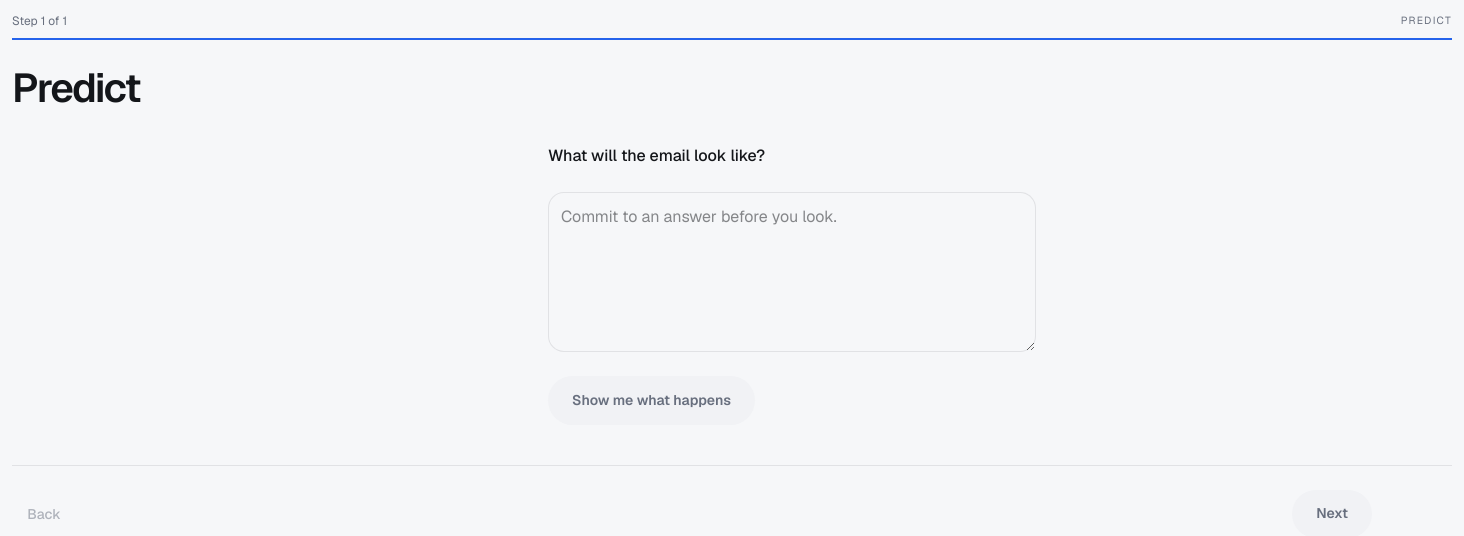
Test: <FocusMode /> — chunk kinds › hides a predict chunk's answer until the learner asks for it
Check: the text "What will the email look like?" is shown, box [548,145,765,166]
Check: the text "alex@example.com" is not shown
Type "lowercase, no spaces" into the text box labelled "What will the email look like?" at (792, 272), box [548,192,1036,352]
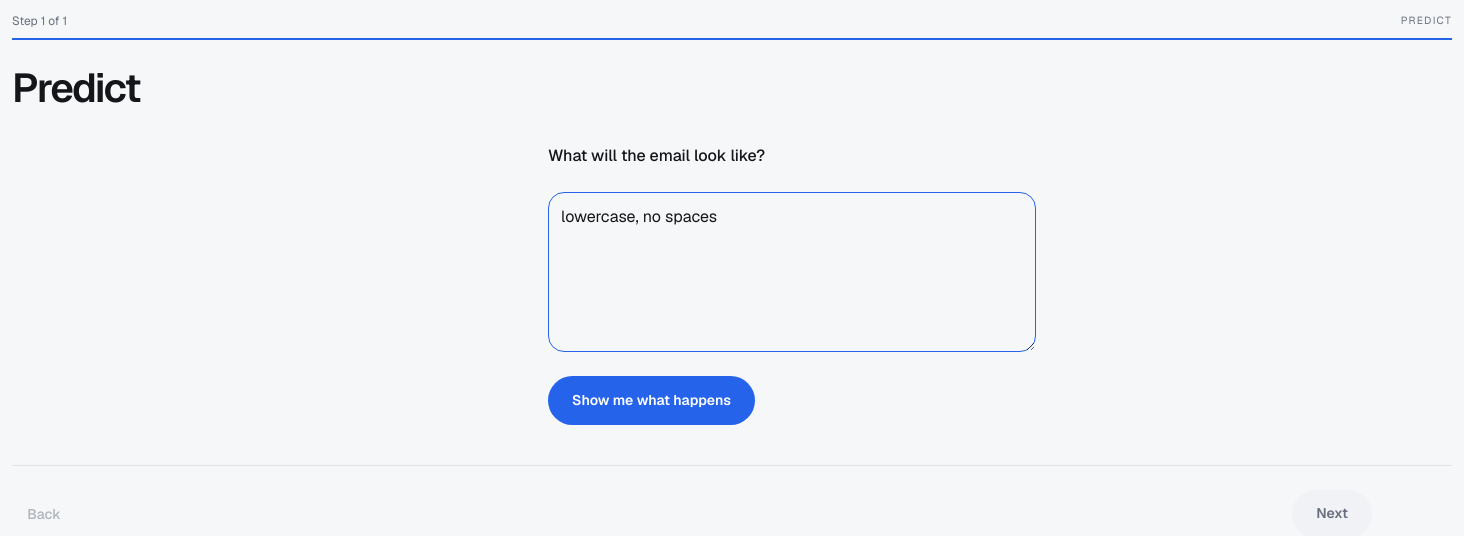
Click the button "Show me what happens" at (651, 400), box [548,376,755,425]
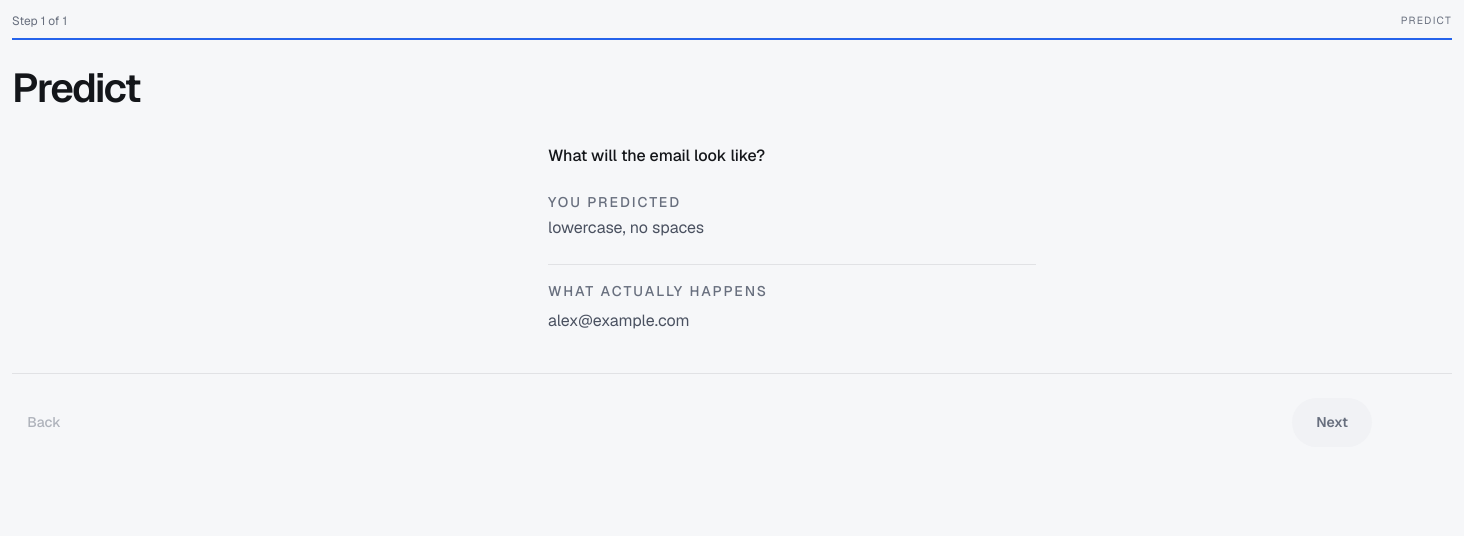
Check: the text "alex@example.com" is shown, box [548,310,690,331]
Check: the text "lowercase, no spaces" is shown, box [548,217,704,238]
